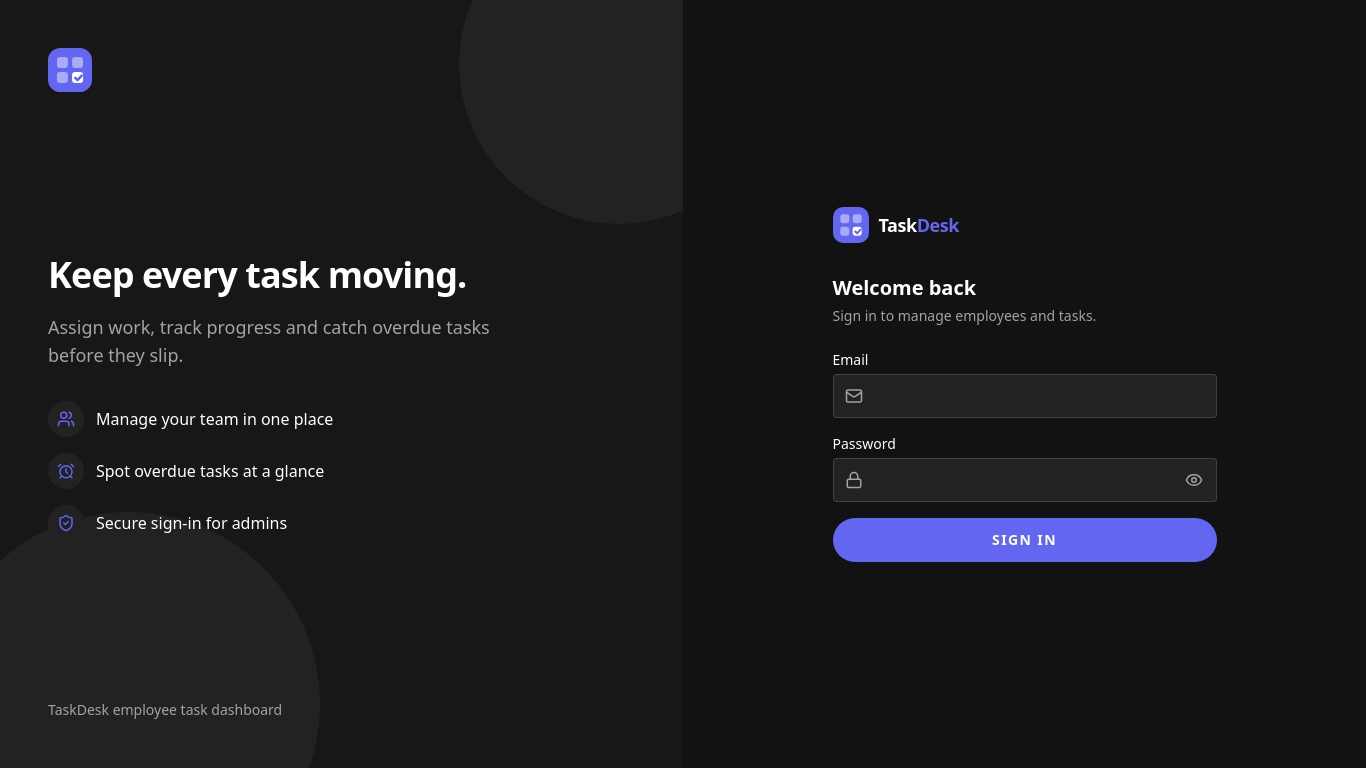
Scenario: LoginPage › shows the server message and stays on the page when the password is wrong
Type "admin@example.com" into the field labelled "Email" at (1024, 396), box [832,374,1216,418]
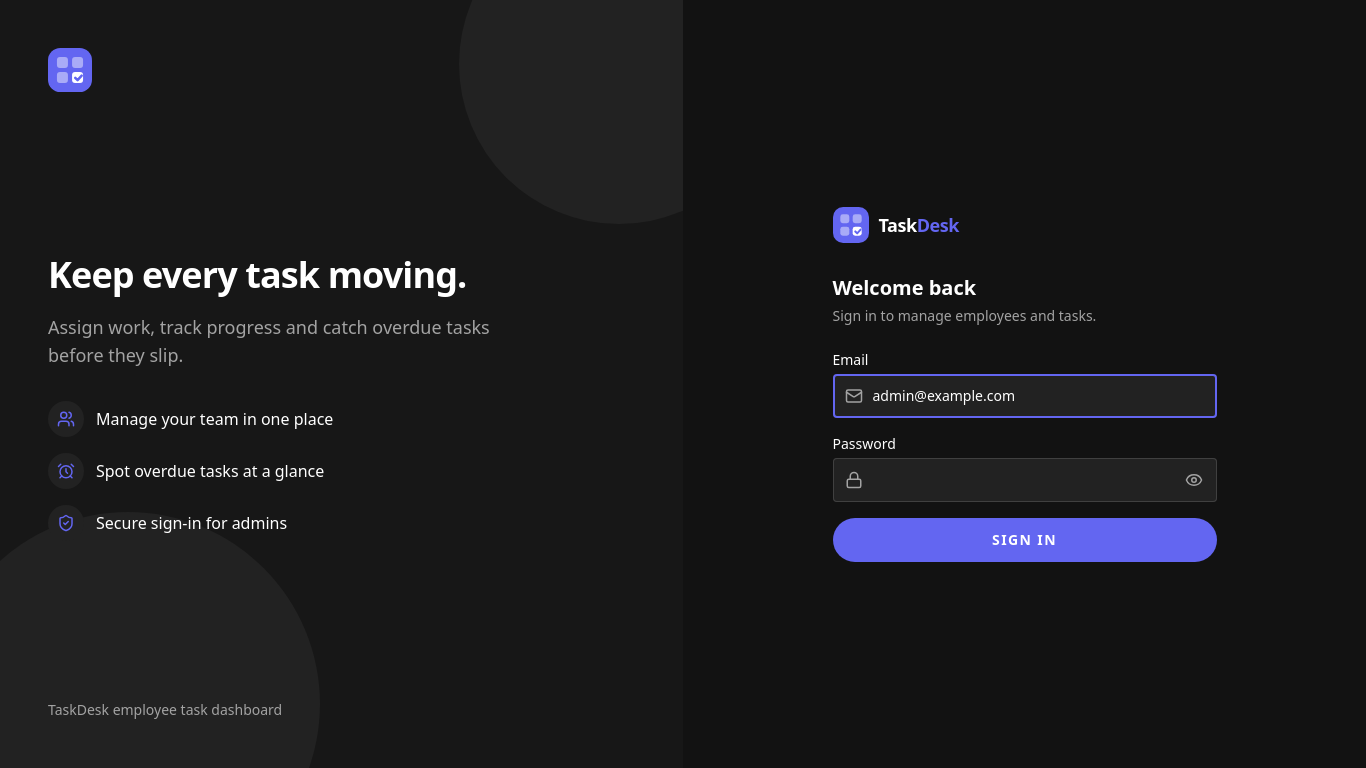
Type "wrong" into the password field labelled "Password" at (1024, 480), box [832,458,1216,502]
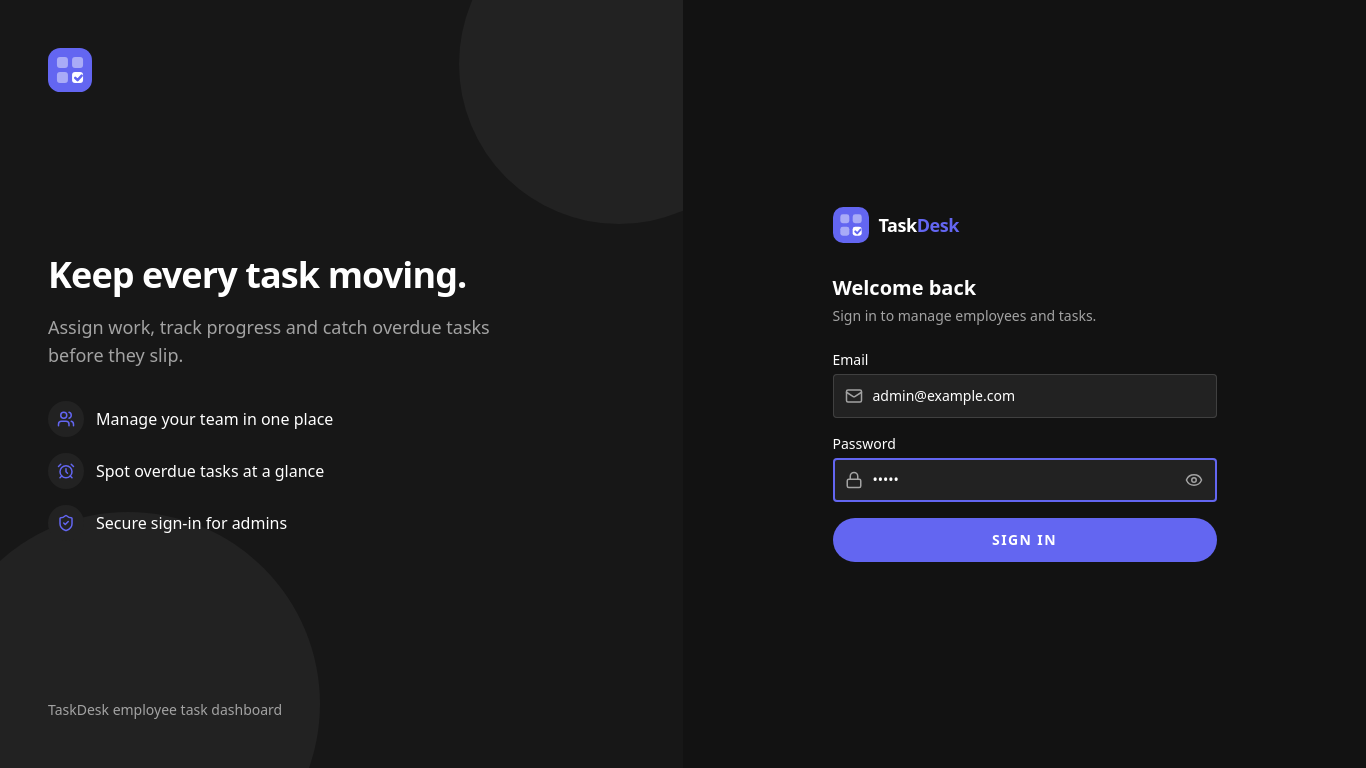
Click the button "Sign in" at (1024, 540), box [832,518,1216,562]
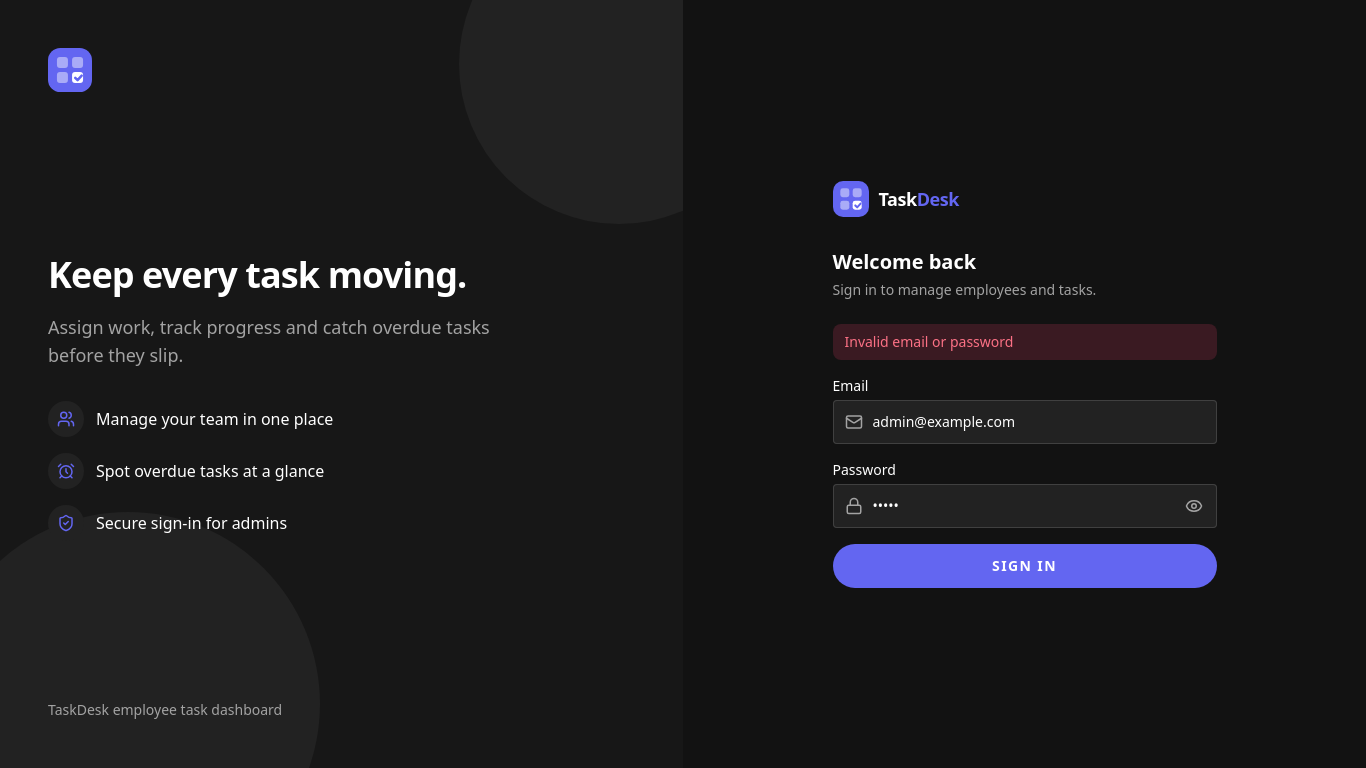
expect the message reads "Invalid email or password": met, box [844,332,1013,350]
